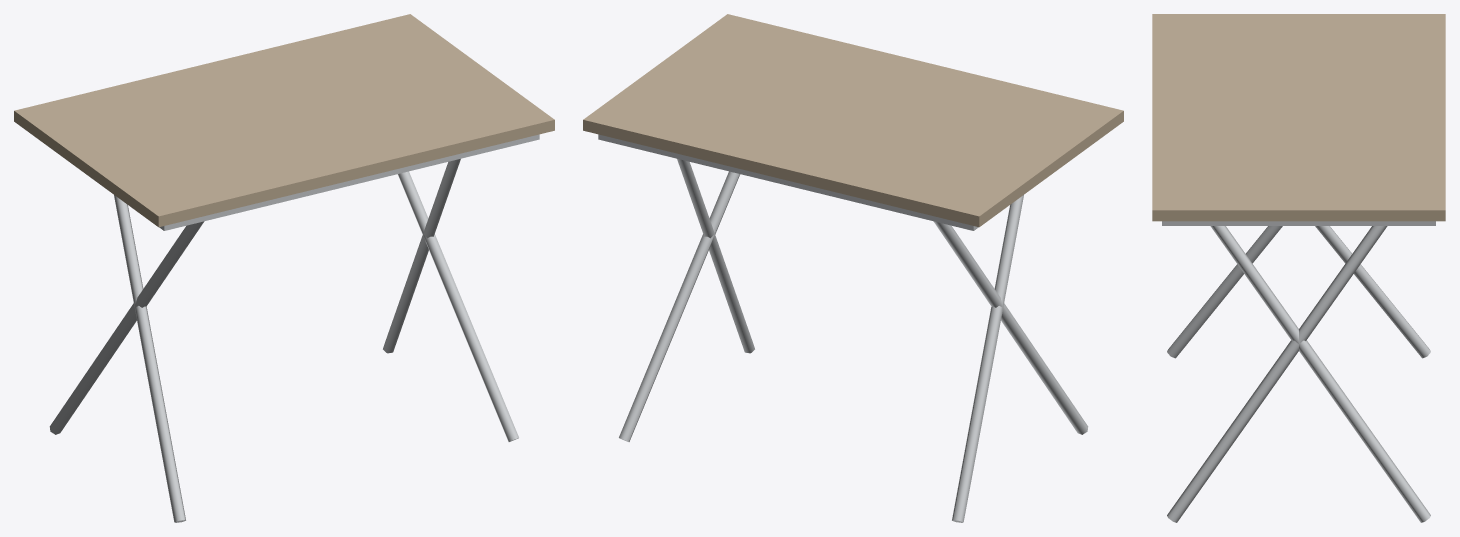
Rendered from camp_table_a.glb.
3 renders of one model, left to right at view 1: azimuth 30°, elevation 25°; view 2: azimuth 150°, elevation 25°; view 3: azimuth 270°, elevation 25°, orthographic.
Visible parts, largest first — view 1: body; view 2: body; view 3: body.
Boxes of the visible parts, x1=… form: body: x1=14, y1=14, x2=554, y2=522; body: x1=583, y1=14, x2=1123, y2=522; body: x1=1152, y1=14, x2=1445, y2=522.
Size of what is drawn, in the model's own units: 0.95 by 0.739 by 0.6.
